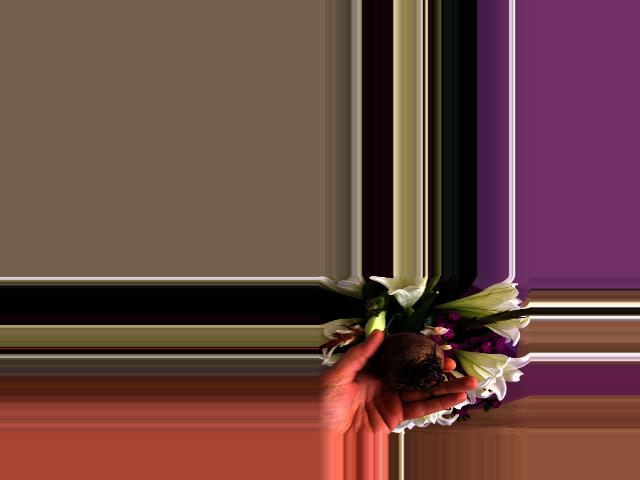beet: (370, 314, 444, 390)
